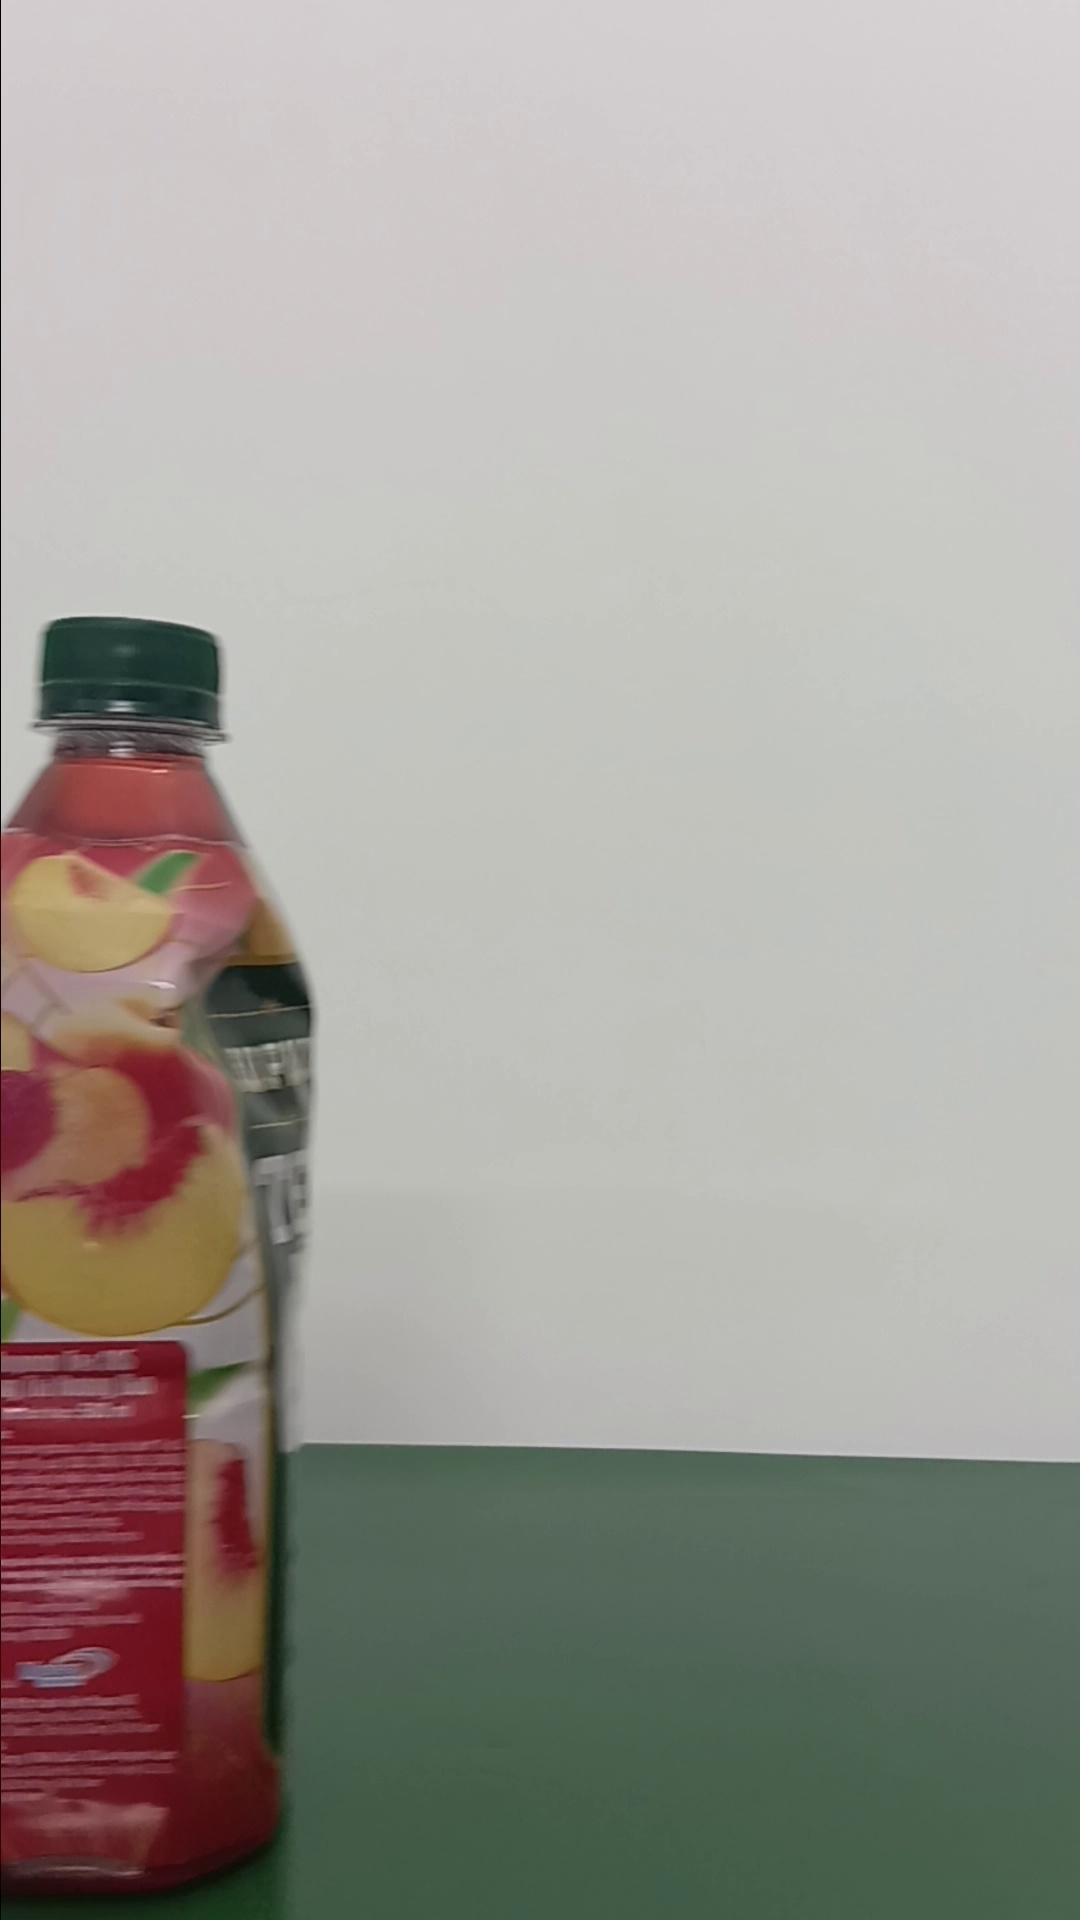loi meo sp: (3, 615, 313, 1895)
